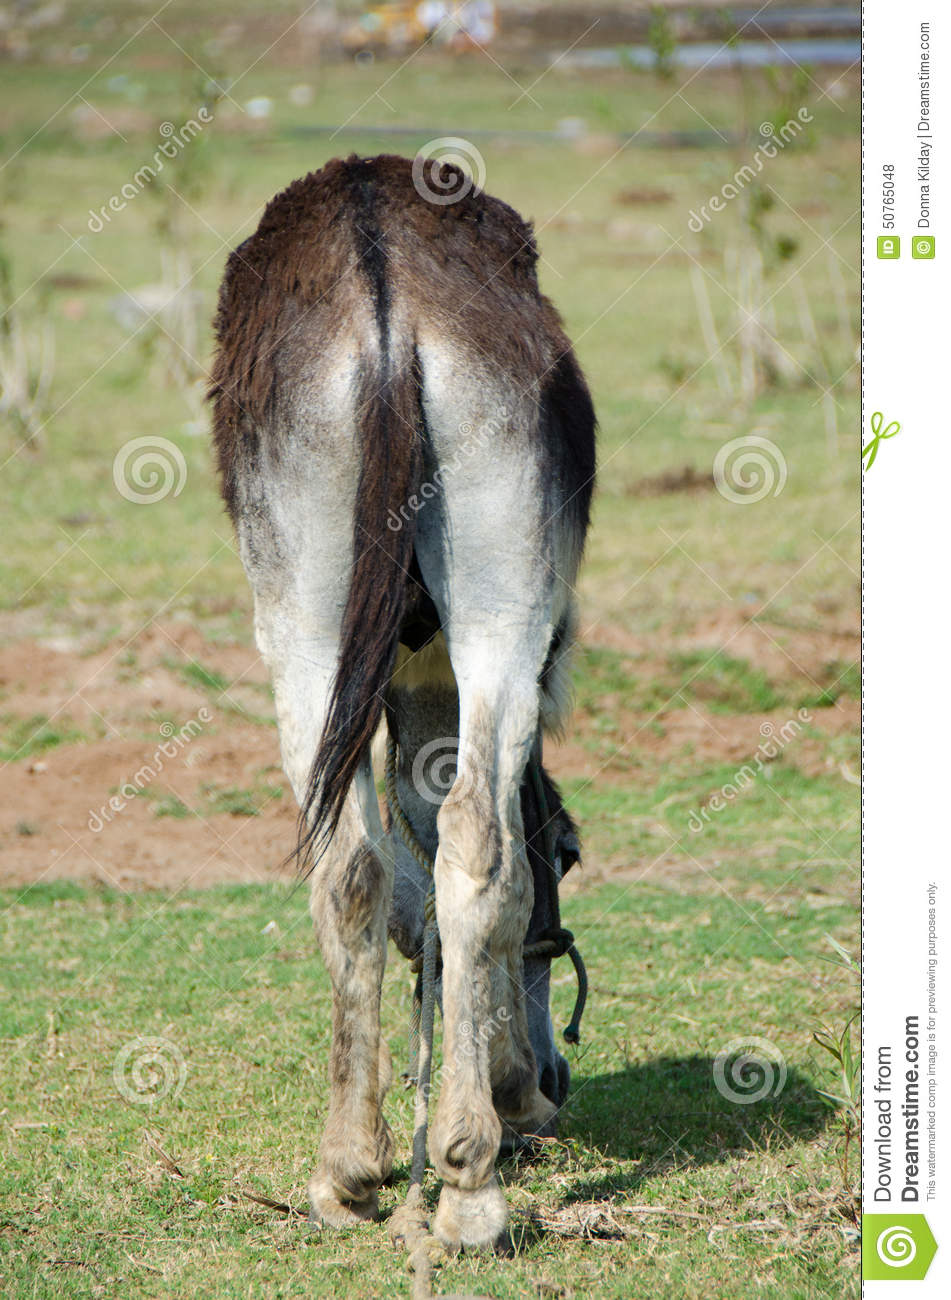donkey: (200, 149, 622, 1247)
